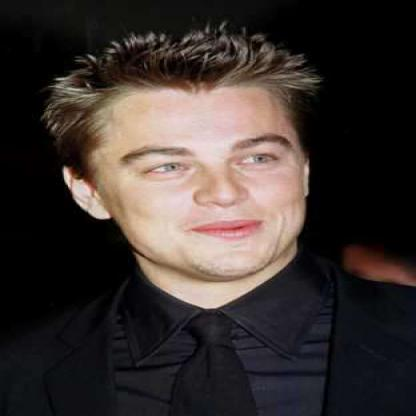face: (94, 51, 314, 281)
